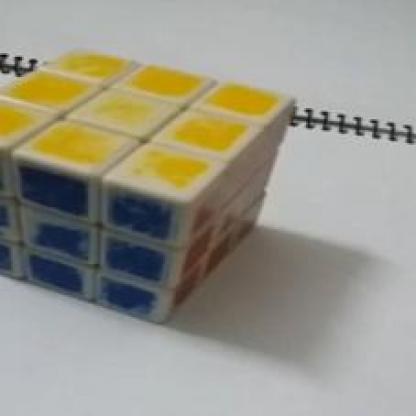cube: (7, 38, 278, 332)
